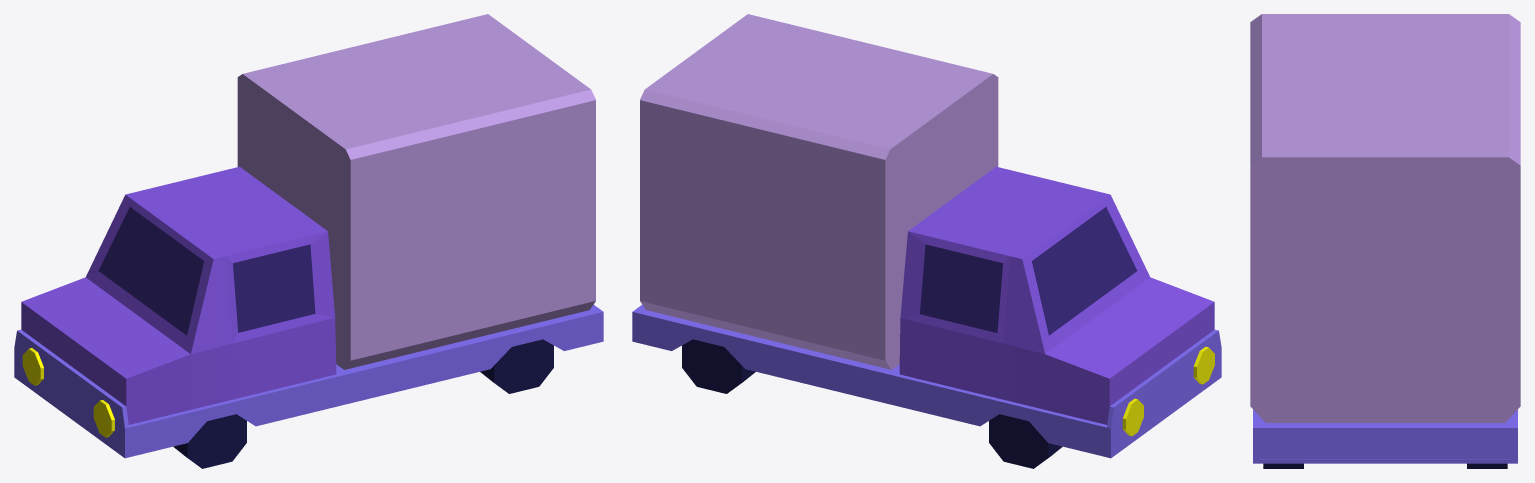
Rendered from Car.fbx.
3 renders of one model, left to right at view 1: azimuth 30°, elevation 25°; view 2: azimuth 150°, elevation 25°; view 3: azimuth 270°, elevation 25°, orthographic. The views are drawn at different scales.
Parts seen in each view (by area): view 1: Cube.002; view 2: Cube.002; view 3: Cube.002.
Part boxes in pixels (x1,y1,x2,y2): Cube.002: (14, 14, 603, 468); Cube.002: (632, 14, 1221, 468); Cube.002: (1250, 14, 1520, 468).
Size of the model in its own units: 173 by 97.48 by 70.
